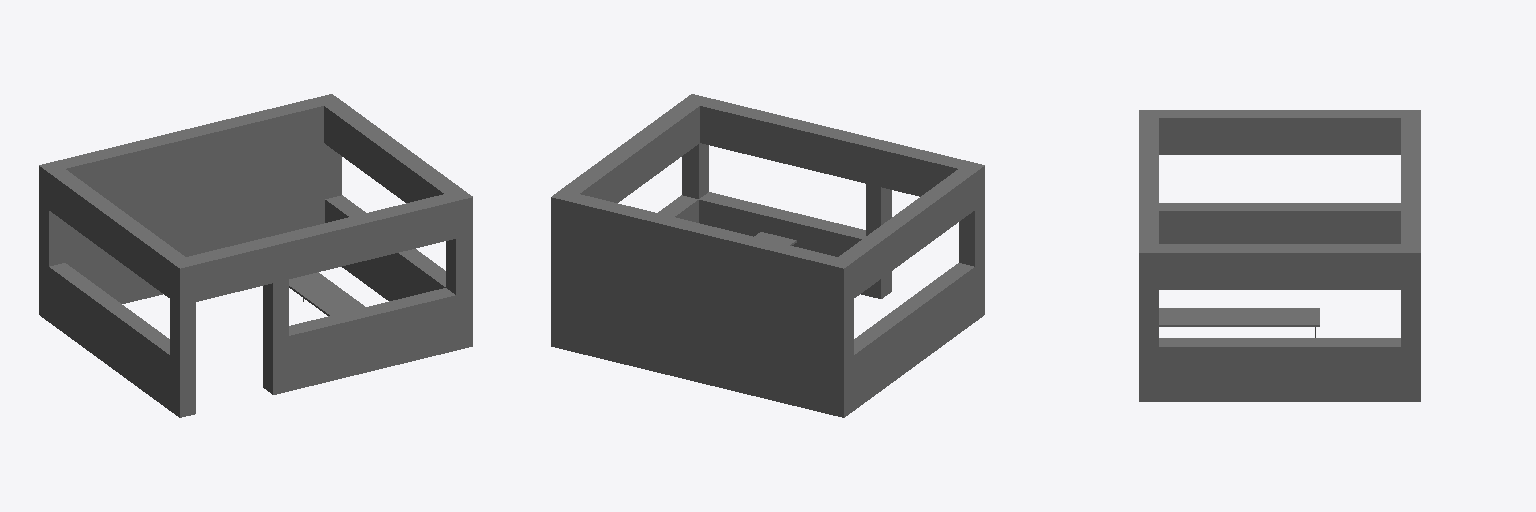
Rendered from pumpStall_lowpoly_001.obj.
The picture shows the model from 3 angles: view 1: azimuth 30°, elevation 25°; view 2: azimuth 150°, elevation 25°; view 3: azimuth 270°, elevation 25°; orthographic projection.
Parts seen in each view (by area): view 1: polySurface001; view 2: polySurface001; view 3: polySurface001.
Boxes of the visible parts, x1,y1,x2,y2 form: polySurface001: [39, 94, 472, 417]; polySurface001: [551, 94, 984, 417]; polySurface001: [1139, 110, 1420, 401].
Size of the model in its own units: 141 by 68.44 by 117.